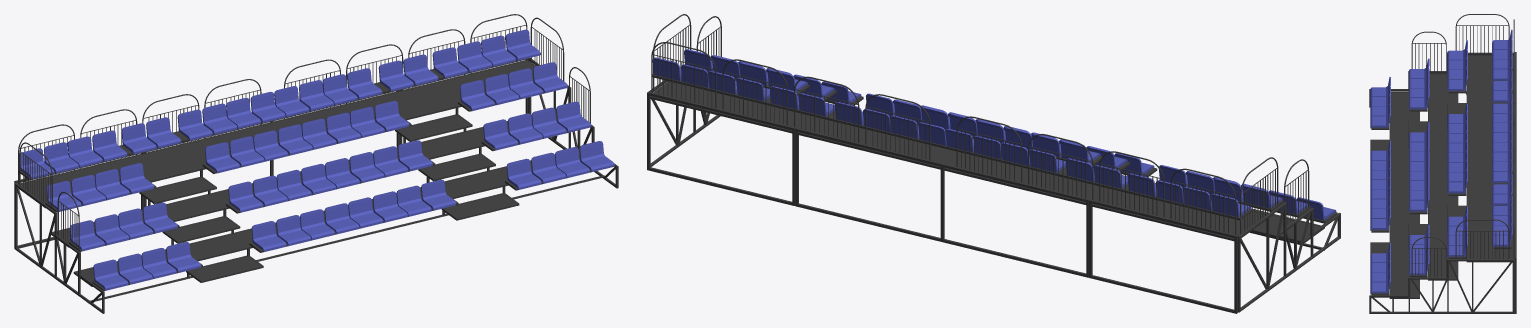
Rendered from stand.FBX.
3 views of the same model, side by side, from view 1: azimuth 30°, elevation 25°; view 2: azimuth 150°, elevation 25°; view 3: azimuth 270°, elevation 25° (orthographic). The views are drawn at different scales.
Parts seen in each view (by area): view 1: stand02, stand00, stand03, stand01; view 2: stand02, stand03, stand01, stand00; view 3: stand02, stand00, stand03, stand01.
Boxes of the visible parts, bbox=[...] form: stand02: bbox=[20, 29, 614, 290]; stand00: bbox=[20, 61, 580, 282]; stand03: bbox=[14, 52, 618, 313]; stand01: bbox=[18, 14, 590, 248]; stand02: bbox=[652, 49, 1336, 220]; stand03: bbox=[647, 72, 1340, 313]; stand01: bbox=[651, 14, 1309, 234]; stand00: bbox=[655, 82, 1319, 239]; stand02: bbox=[1370, 29, 1512, 294]; stand00: bbox=[1372, 56, 1513, 296]; stand03: bbox=[1369, 52, 1516, 313]; stand01: bbox=[1411, 14, 1514, 277].
Bounding box in the file's own units: 436 × 92.18 × 131.
